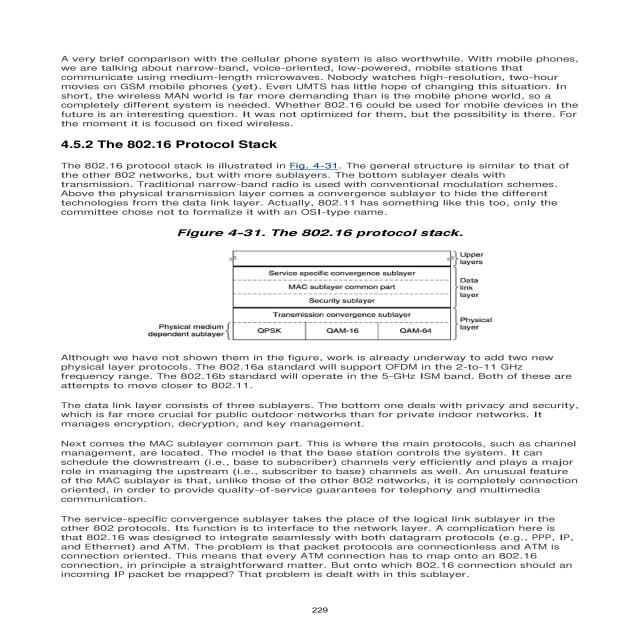diagram: (145, 228, 561, 350)
